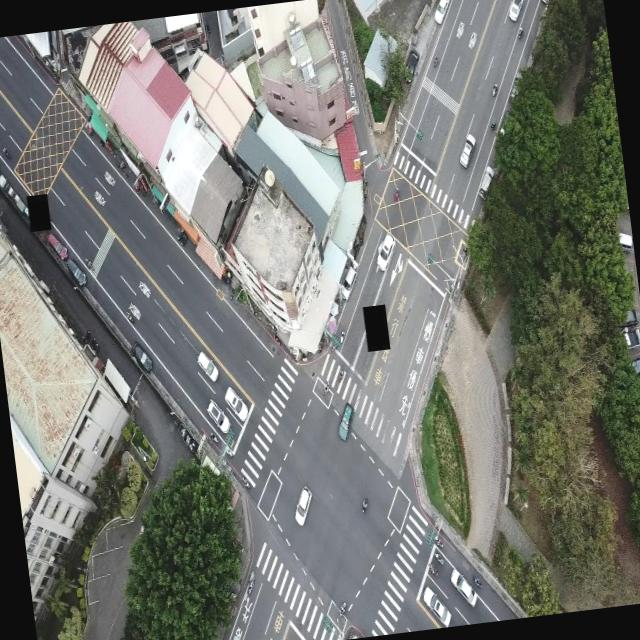bike: (359, 494, 368, 514), (338, 600, 348, 614), (515, 23, 524, 38)
car: (420, 582, 451, 628), (448, 565, 477, 609), (222, 384, 250, 422), (290, 484, 315, 526), (336, 260, 360, 302), (373, 232, 398, 270), (334, 401, 356, 442), (206, 397, 230, 434), (42, 228, 68, 262), (455, 131, 478, 168), (195, 348, 218, 382), (132, 339, 154, 374), (67, 255, 88, 288), (476, 162, 497, 195), (430, 0, 452, 24), (505, 0, 526, 22)
